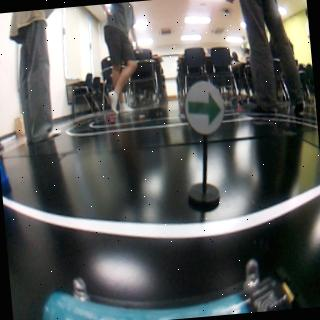right: (182, 77, 230, 134)
